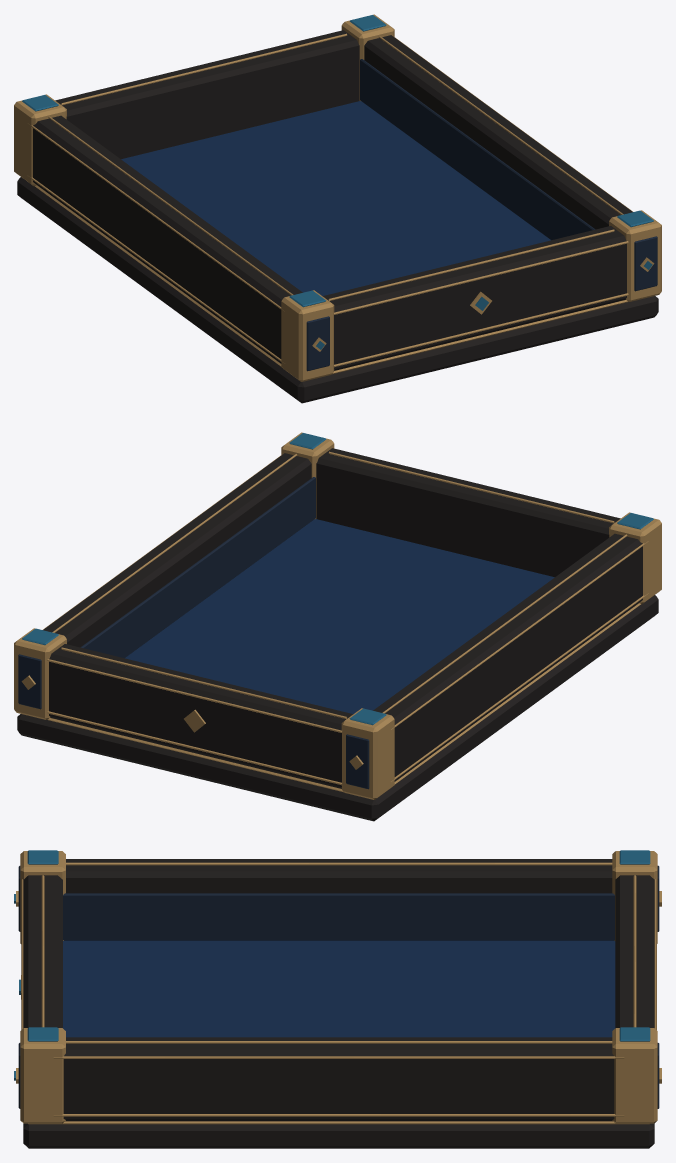
The model's file is shelf-low.glb.
3 views of the same model, one above another, from view 1: azimuth 30°, elevation 25°; view 2: azimuth 150°, elevation 25°; view 3: azimuth 270°, elevation 25° (orthographic). The views are drawn at different scales.
Visible parts, largest first — view 1: ShelfVisual; view 2: ShelfVisual; view 3: ShelfVisual.
Boxes of the visible parts, x1,y1,x2,y2 form: ShelfVisual: (14,14,661,403); ShelfVisual: (14,432,661,821); ShelfVisual: (14,850,661,1148).
Size of the model in its own units: 0.0982 by 0.0252 by 0.1366.
